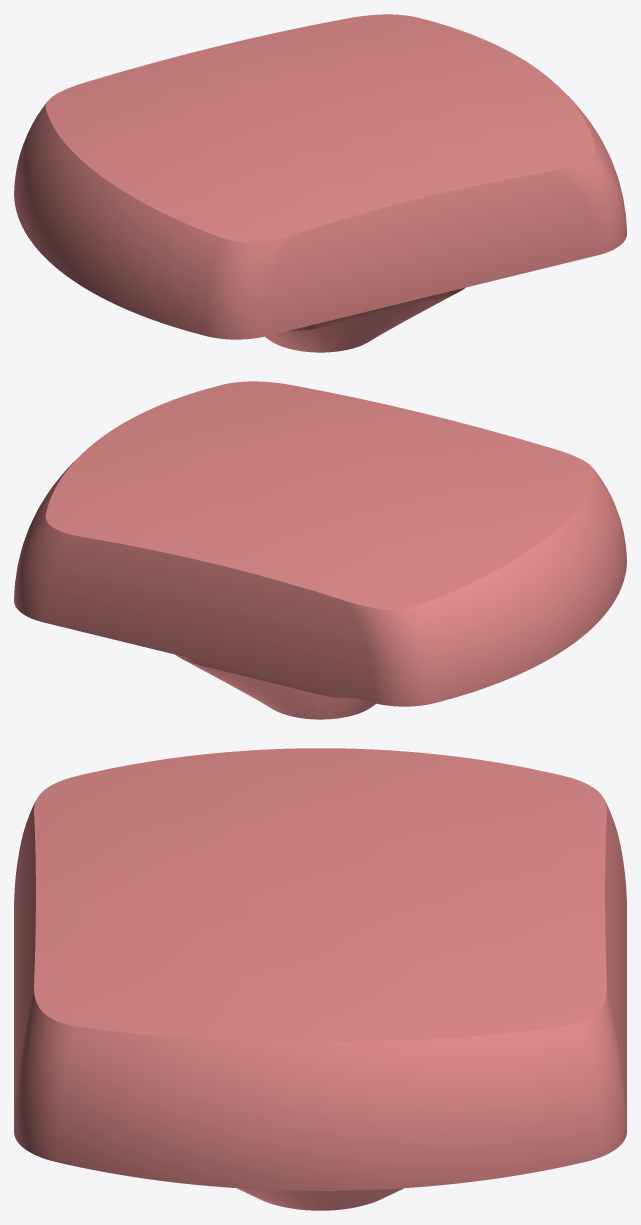
The model's file is OUTFITTING_INTERIOR__EXT. INSTRUMENTS__FWD MAST__Furuno SCX-20 satellite compass.glb.
3 renders of one model, top to bottom at view 1: azimuth 30°, elevation 25°; view 2: azimuth 150°, elevation 25°; view 3: azimuth 270°, elevation 25°, orthographic. The views are drawn at different scales.
Size of the model in its own units: 0.251 by 0.1023 by 0.1908.
